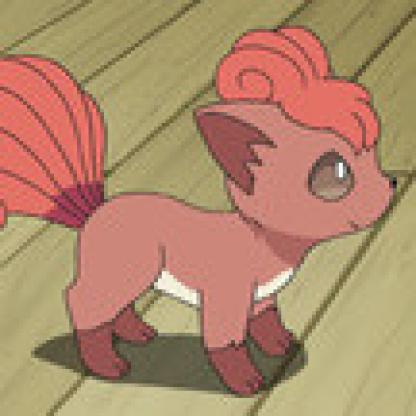Vulpix: (2, 26, 391, 387)
